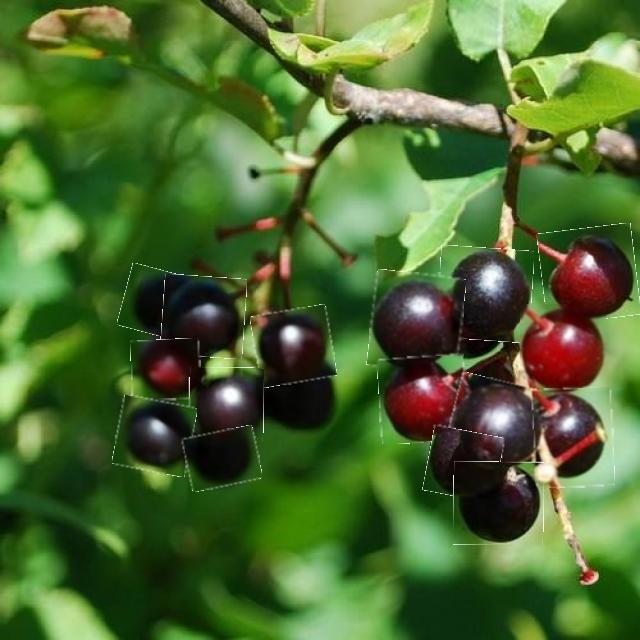cherry: (446, 377, 549, 472), (539, 226, 639, 322), (369, 272, 464, 372), (436, 247, 533, 342), (534, 388, 614, 488), (379, 356, 467, 443), (520, 304, 606, 392), (454, 462, 544, 545), (161, 276, 246, 358), (253, 307, 335, 385), (115, 398, 195, 474), (121, 267, 203, 340), (189, 368, 264, 442), (425, 428, 502, 500), (185, 428, 260, 490), (131, 340, 201, 400)
